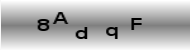8: (35, 18, 49, 32)
A: (51, 11, 68, 25)
F: (129, 17, 142, 32)
d: (73, 25, 88, 40)
q: (104, 25, 118, 40)
